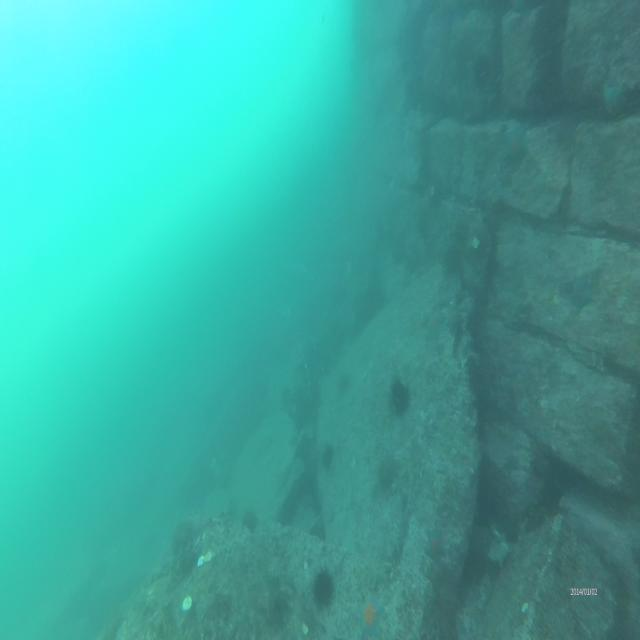echinus: (310, 571, 334, 608), (371, 455, 395, 490), (392, 382, 408, 410), (242, 510, 257, 534), (320, 440, 332, 467)
starfish: (354, 590, 387, 630)
